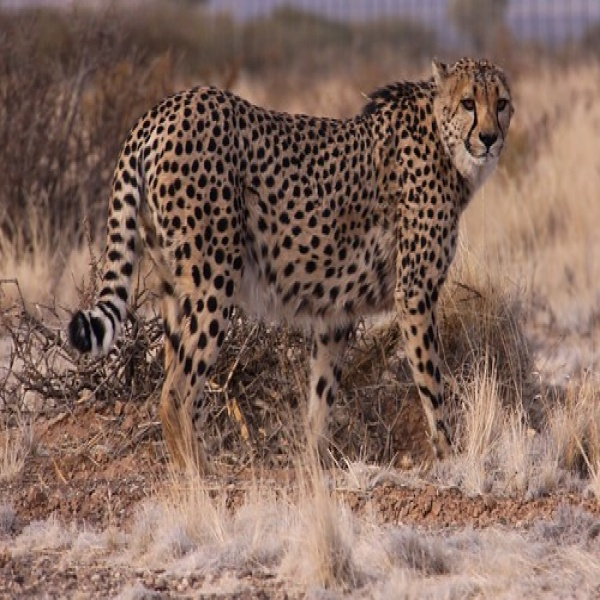Cheetah: (62, 54, 524, 470)
